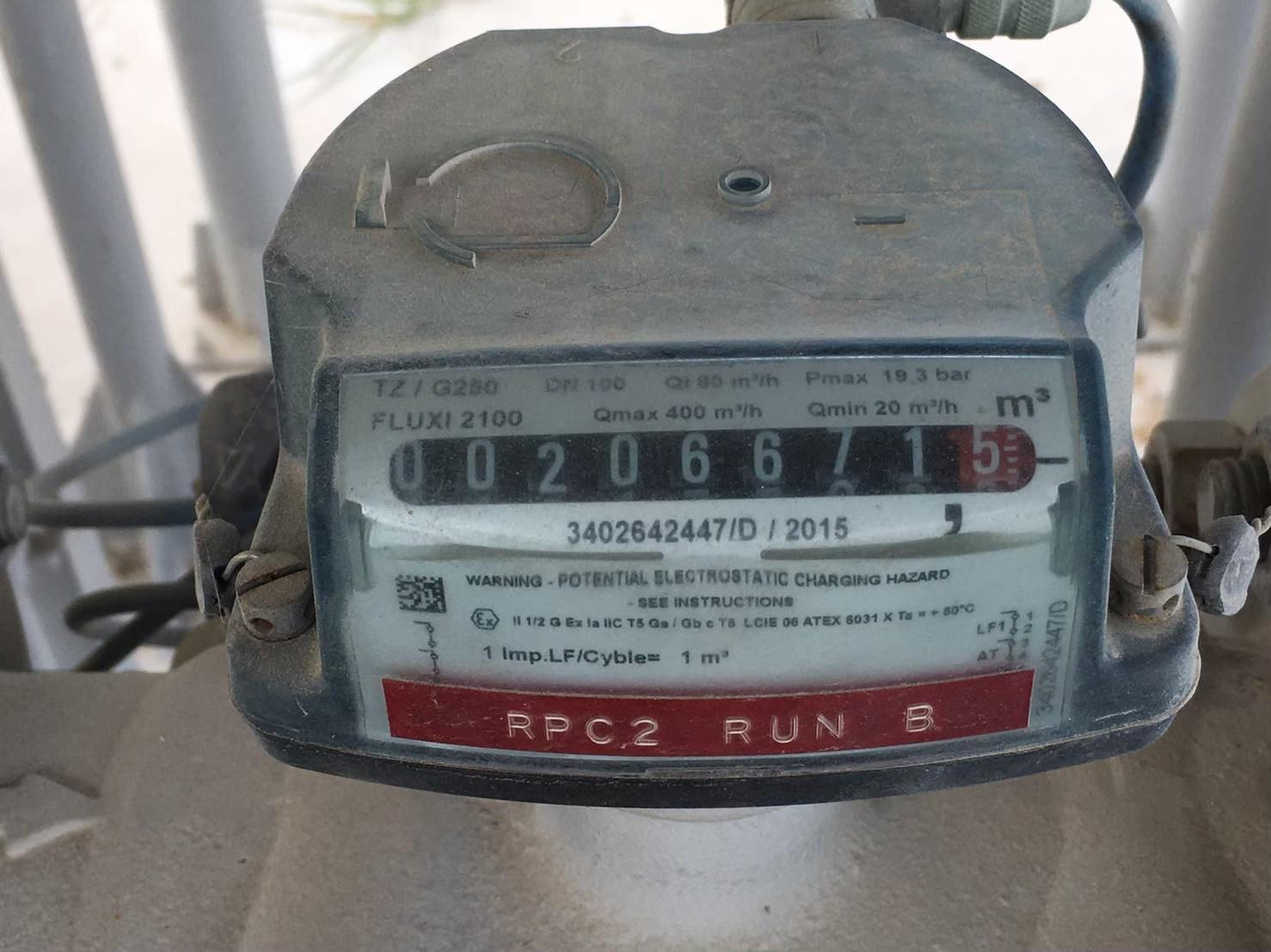analog_dial: (382, 417, 1068, 528)
